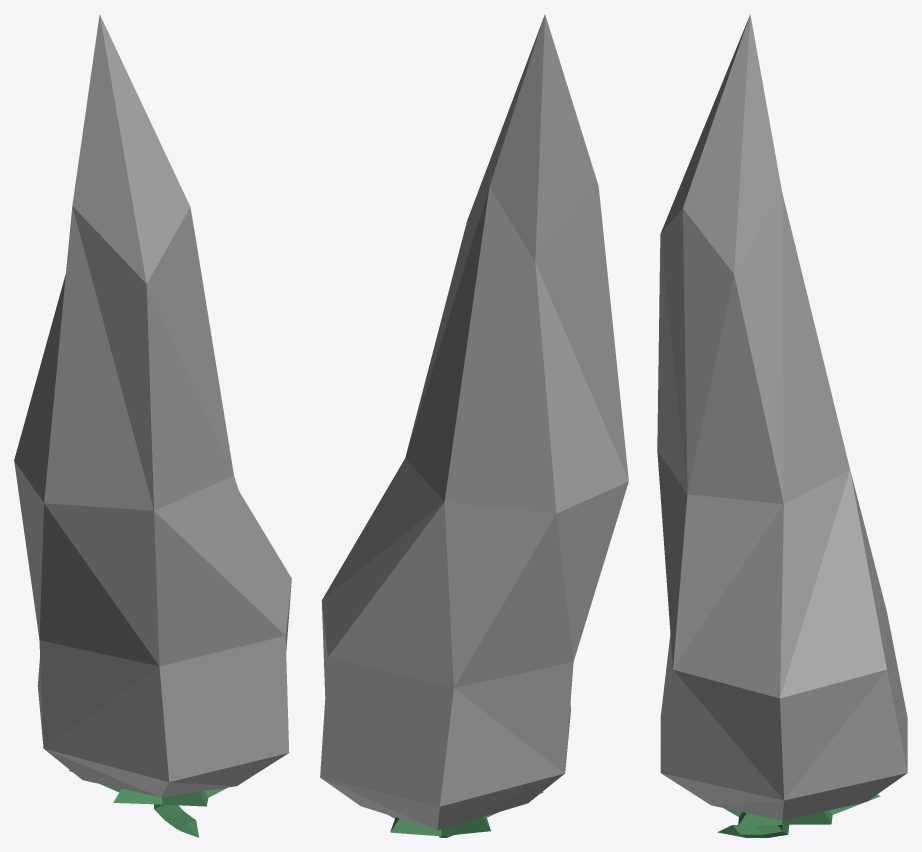
Rendered from pepperoni03.fbx.
The picture shows the model from 3 angles, left to right: view 1: azimuth 30°, elevation 25°; view 2: azimuth 150°, elevation 25°; view 3: azimuth 270°, elevation 25°; orthographic projection. The views are drawn at different scales.
Visible parts, largest first — view 1: pCylinder4; view 2: pCylinder4; view 3: pCylinder4.
Boxes of the visible parts, x1,y1,x2,y2 form: pCylinder4: (14,14,291,837); pCylinder4: (320,14,628,837); pCylinder4: (657,14,907,837).
Size of the model in its own units: 0.00738 by 0.0212 by 0.00613.
